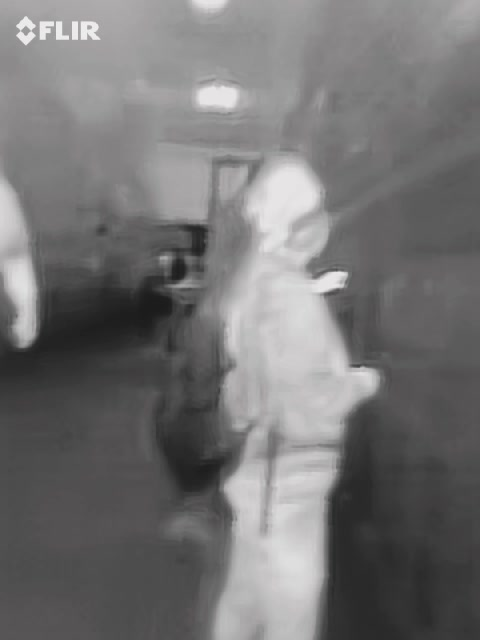head: (246, 158, 332, 259)
